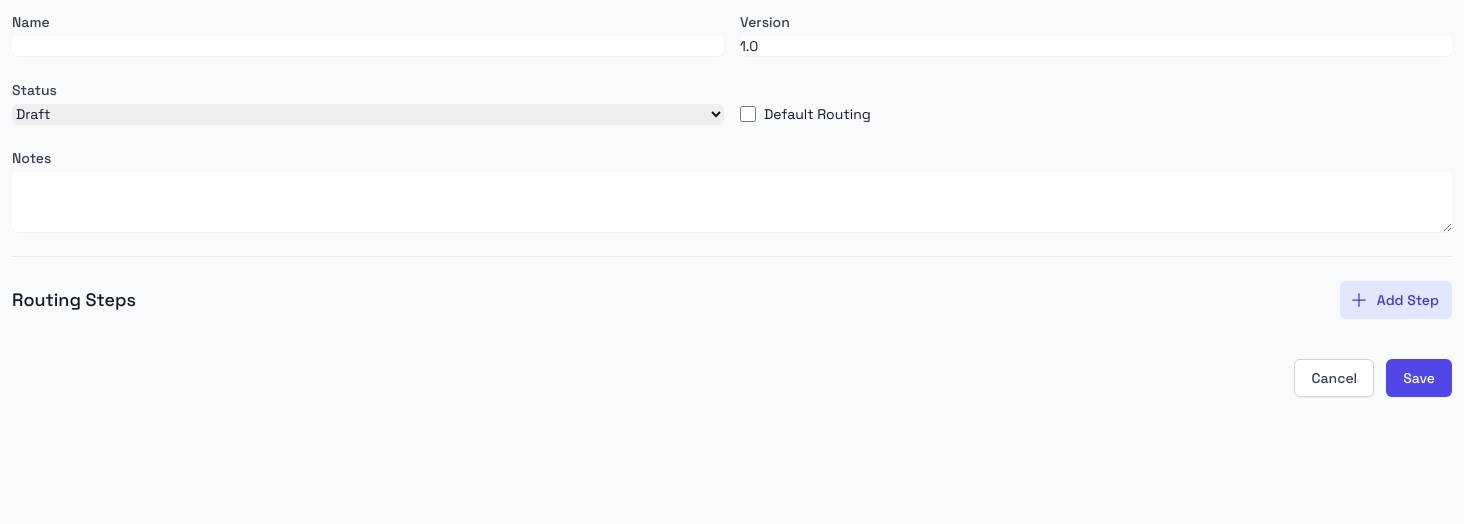
Test case: RoutingForm › shows receive-to hint when selected production area has no location
Click the button "Add Step": (1396, 300) [1340, 281, 1452, 319]
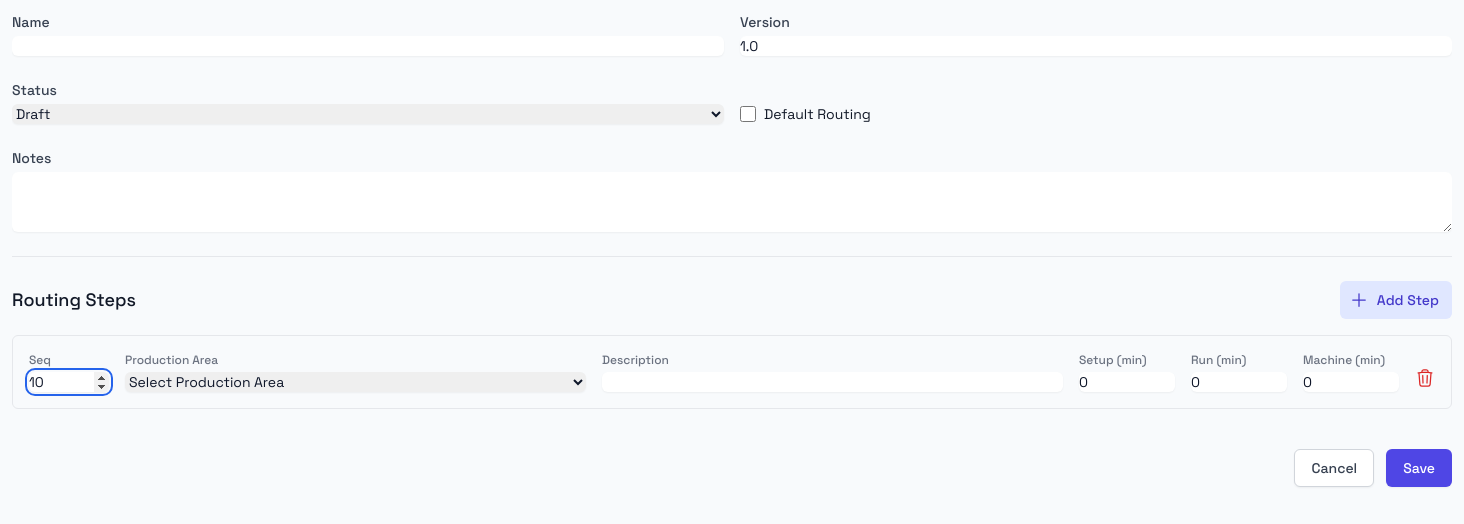
Expected: the dropdown named "steps.0.workCenterId" below "Production Area" is shown
Select "Mixing (MIX)" in the dropdown named "steps.0.workCenterId" below "Production Area": (356, 382) [125, 372, 586, 392]
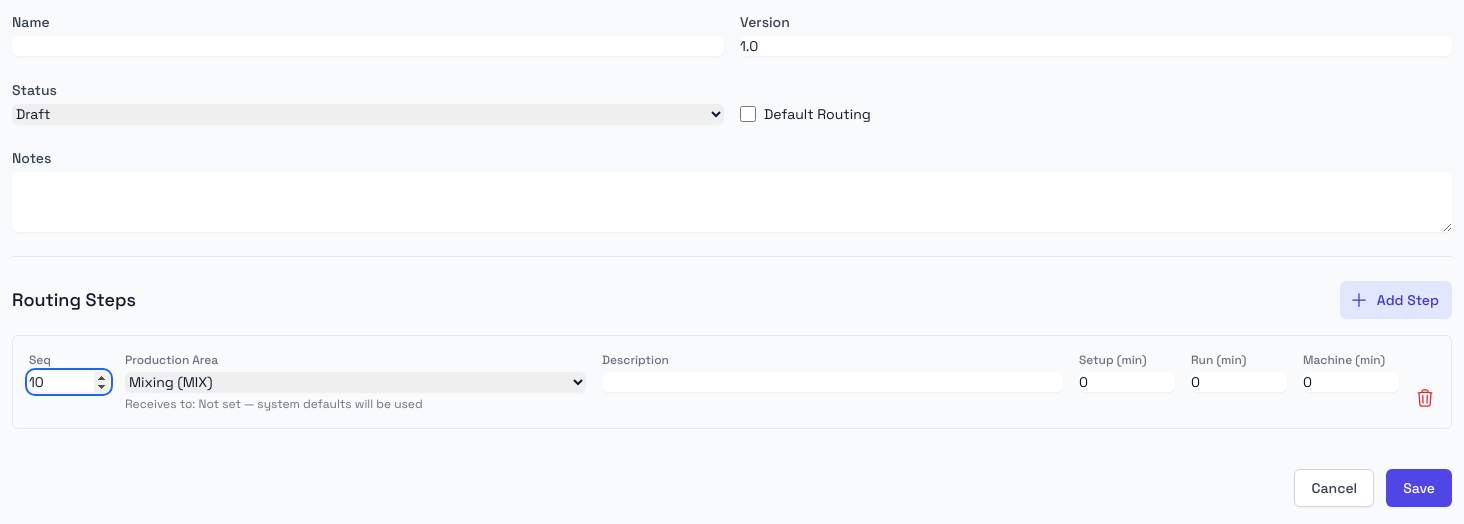
Expected: the text "Receives to: Not set — system defaults will be used" is shown, [125, 396, 423, 412]
